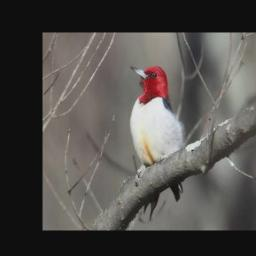Woodpecker: (127, 65, 187, 224)
